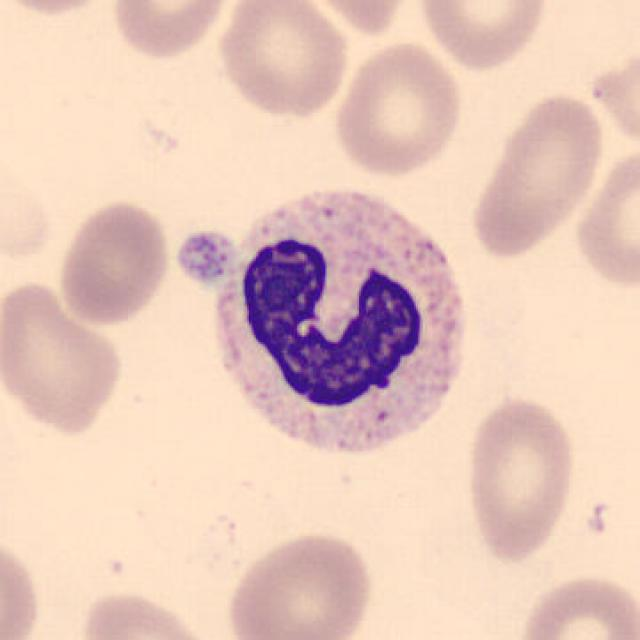Neutrophil: (203, 178, 478, 474)
Platelets: (172, 228, 238, 288)
RBC: (466, 88, 608, 261), (0, 275, 128, 437), (460, 392, 580, 564), (330, 37, 466, 178), (220, 527, 378, 640), (213, 0, 354, 120), (54, 196, 174, 328), (571, 141, 638, 293), (412, 0, 552, 72), (514, 569, 638, 640), (108, 0, 233, 62), (76, 587, 220, 640), (0, 529, 44, 640), (298, 0, 418, 39), (0, 0, 117, 16)
